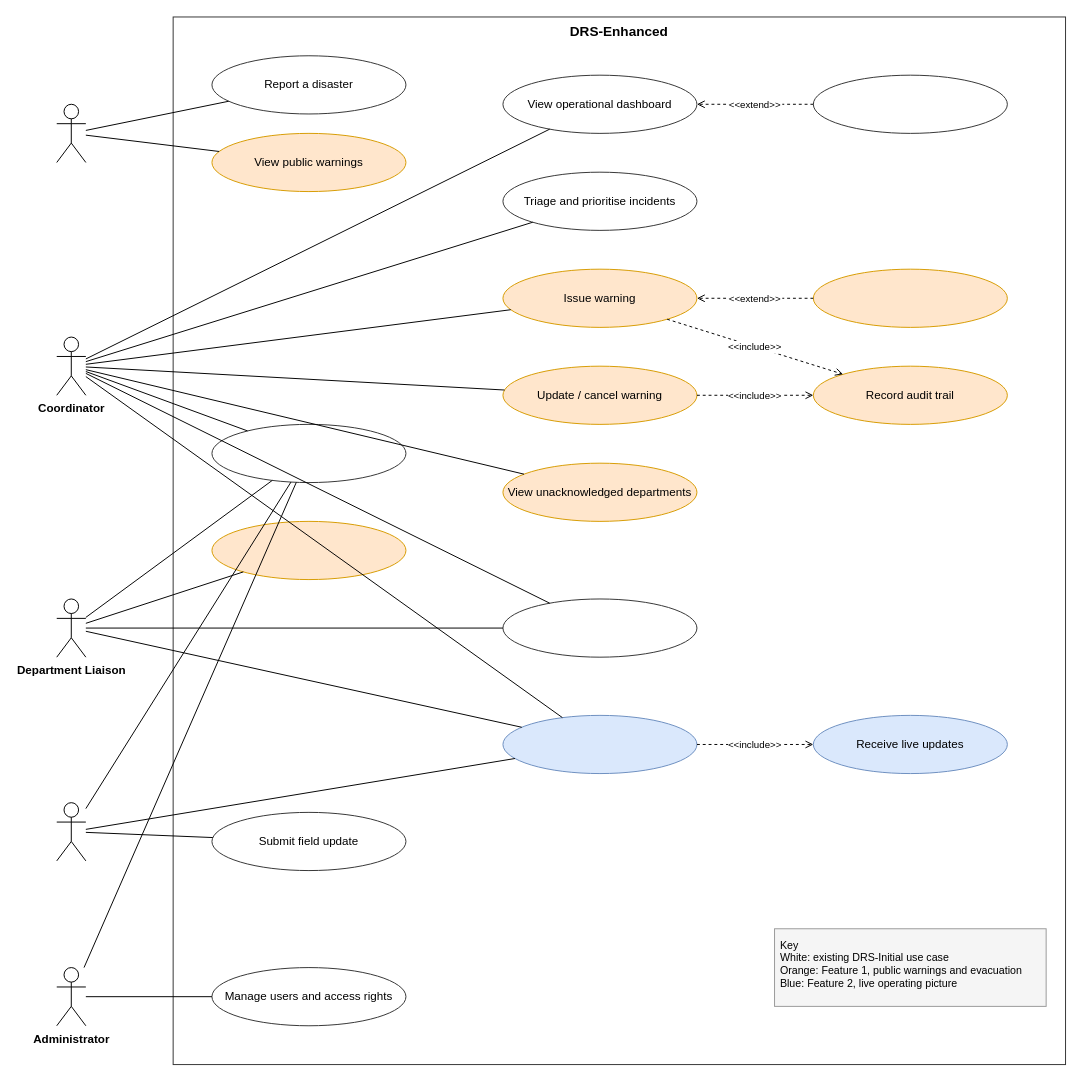
Image size: 1083x1082. Some labels were removed from this diagram. Each missing label, with the box of its shape:
Acknowledge warning: (211, 520, 406, 580)
Coordinate departments: (502, 598, 697, 657)
Public: (56, 103, 86, 162)
Responder: (56, 802, 86, 861)
Set evacuation centre: (812, 268, 1007, 327)
Sign in / Sign out: (211, 423, 406, 483)
View escalation alerts: (812, 74, 1007, 133)
View live operating picture: (502, 714, 697, 774)
